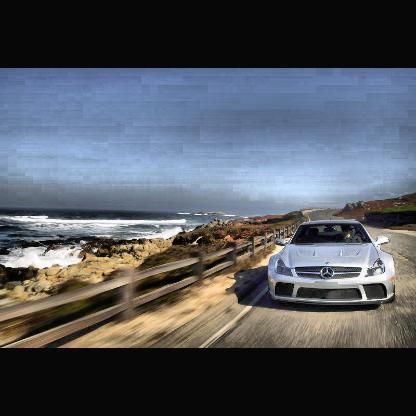Mercedes-Benz SL-Class Coupe 2009: (270, 219, 398, 307)
